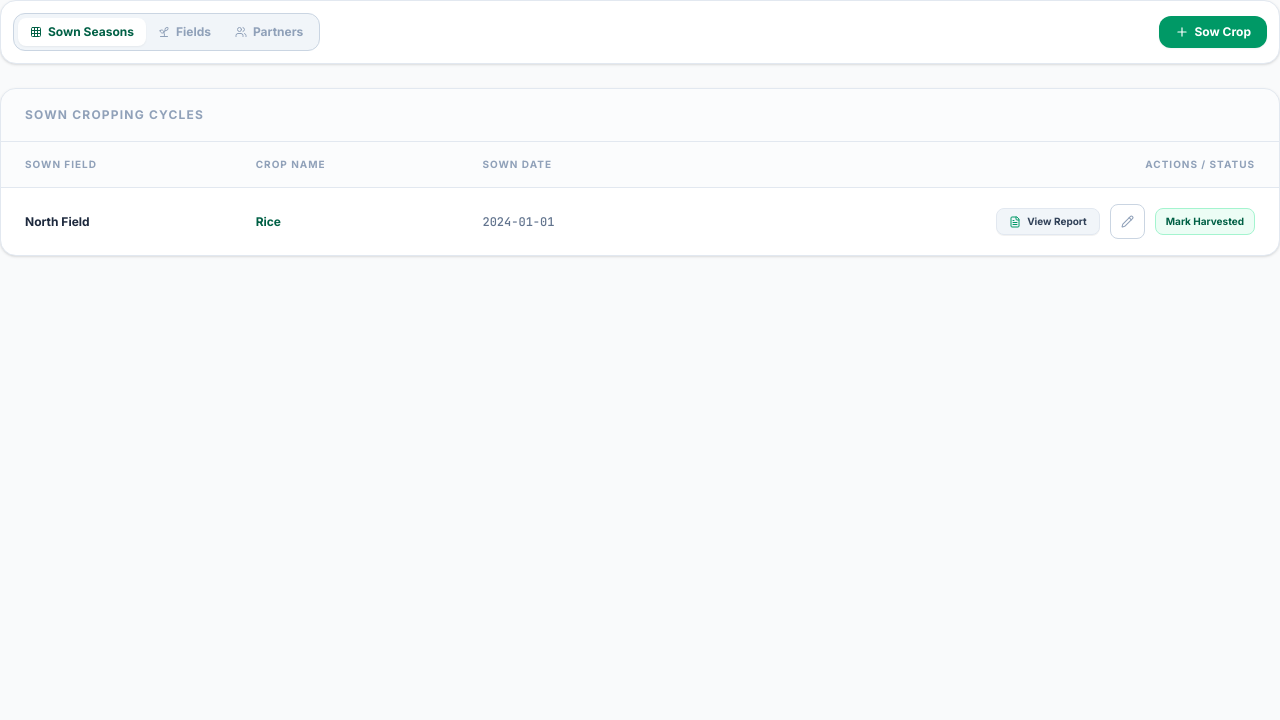
Test: MembersTab - a rejected record must not look saved › announces success when the parent accepts the partner
Click the button "Partners".
click(269, 32)  # box [223,18,315,46]
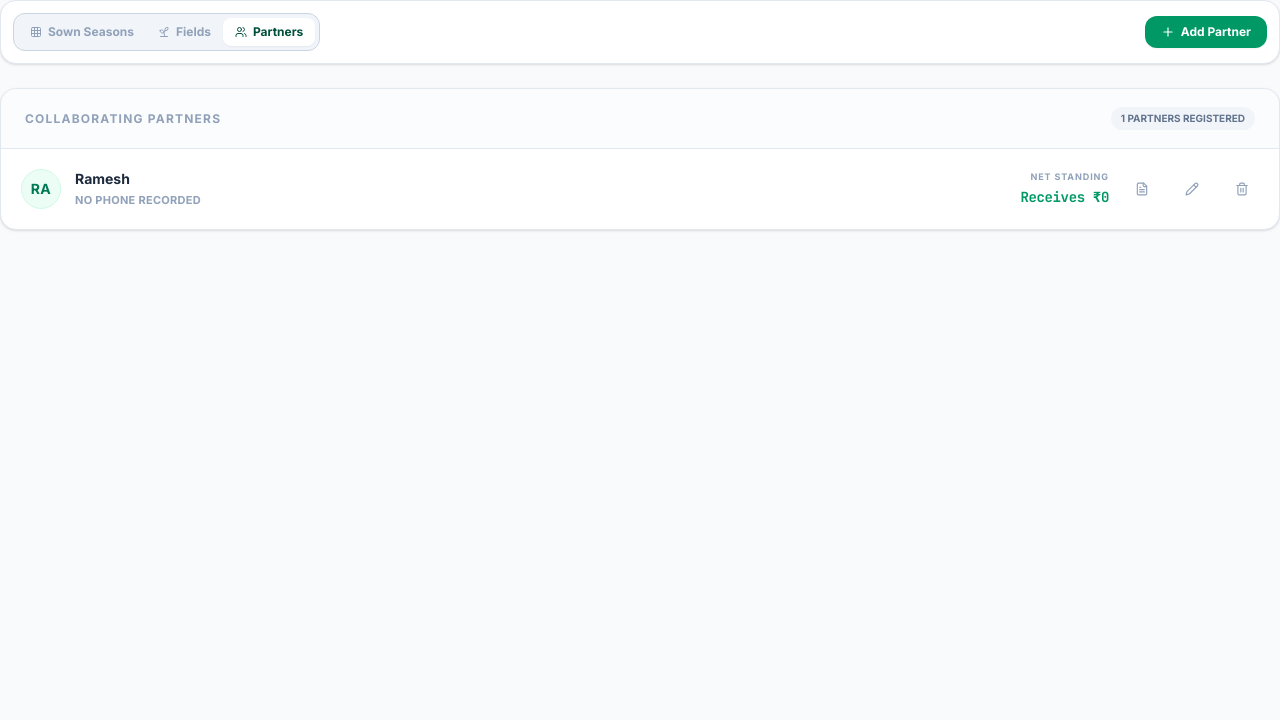
Click the button "Add Partner".
click(1206, 32)  # box [1145,16,1267,48]
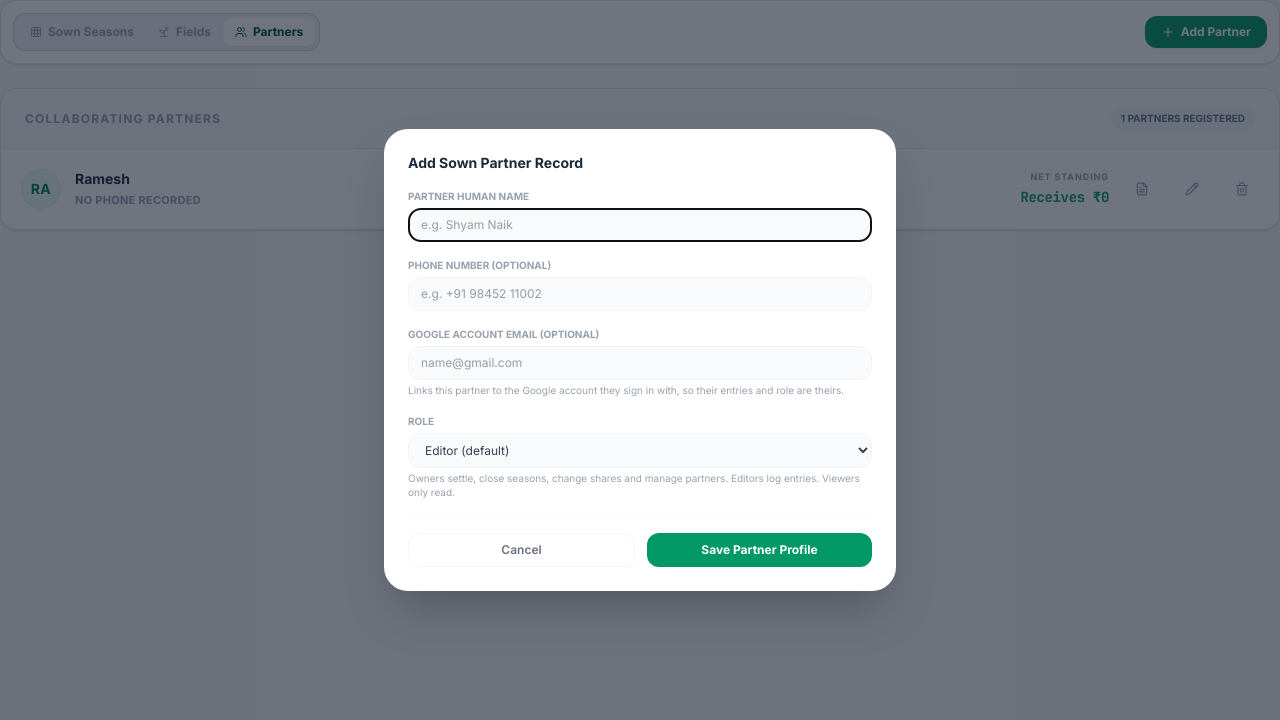
Type "Shyam" into the field with placeholder "e.g. Shyam Naik".
click(640, 225); type("Shyam")  # box [408,208,872,242]
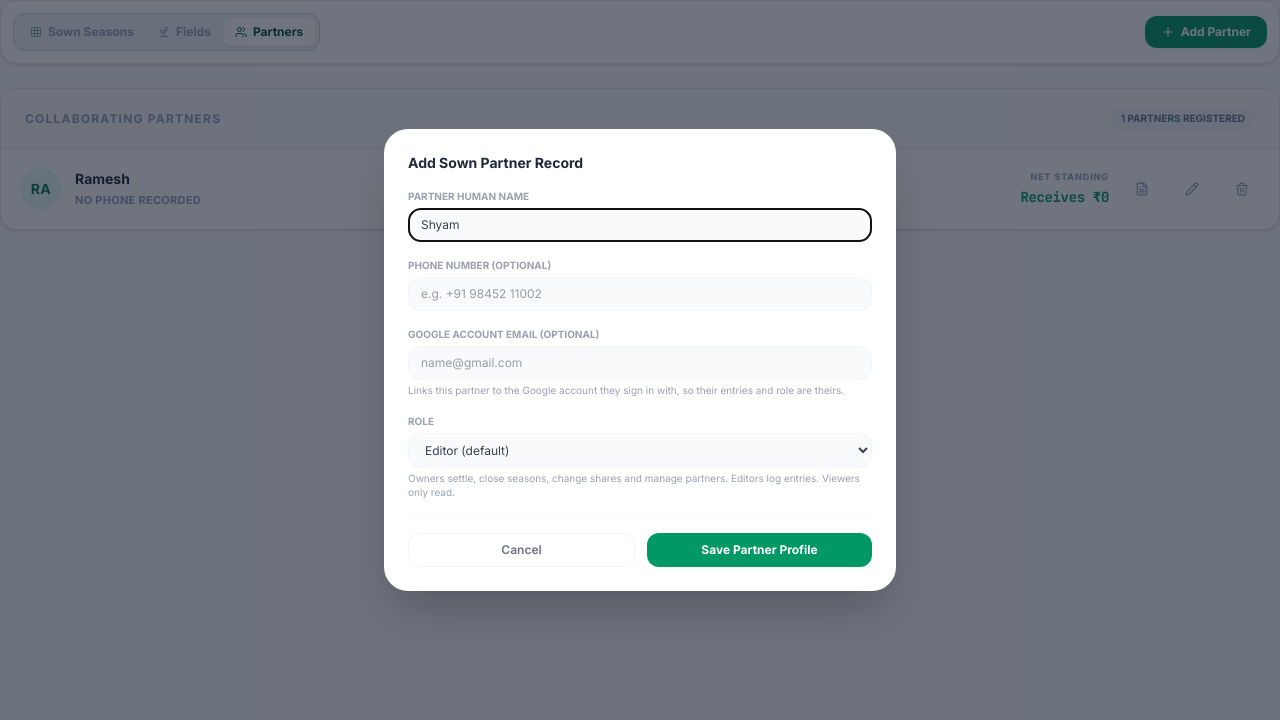
Submit the form with placeholder "e.g. Shyam Naik", box [384,129,896,591]
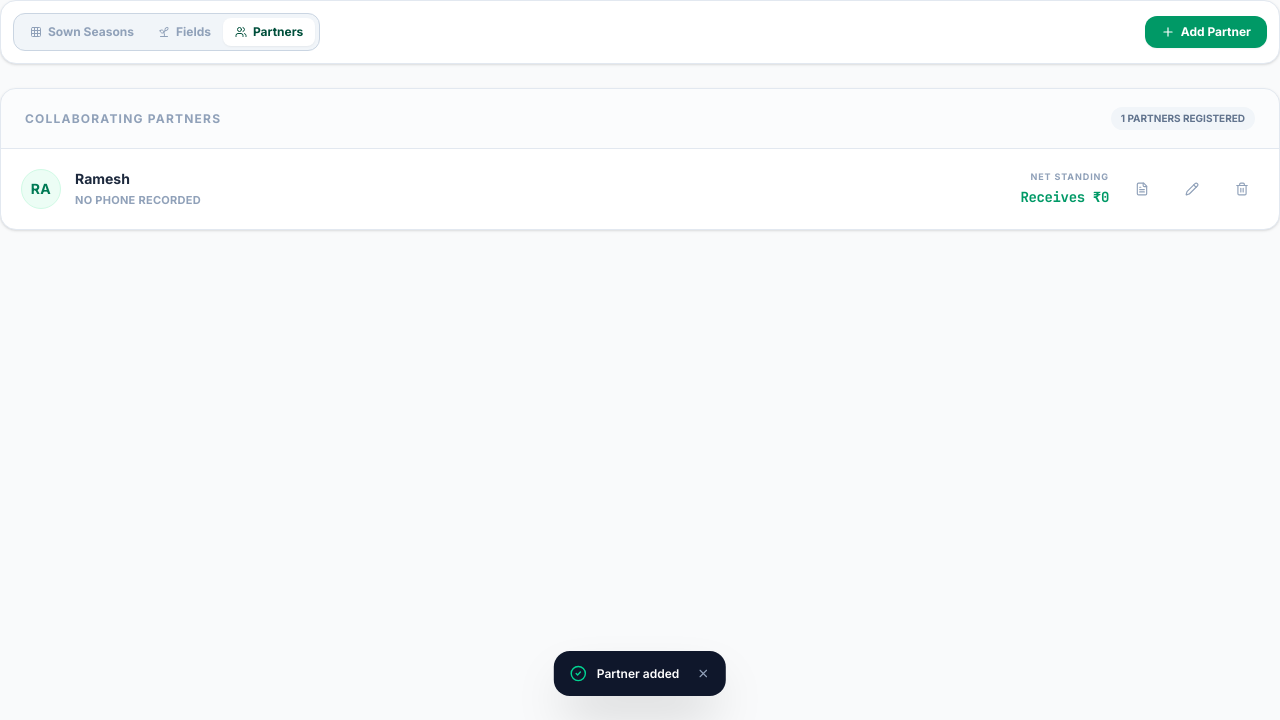
Result: the text "Partner added" is shown at [597,666,679,682]
